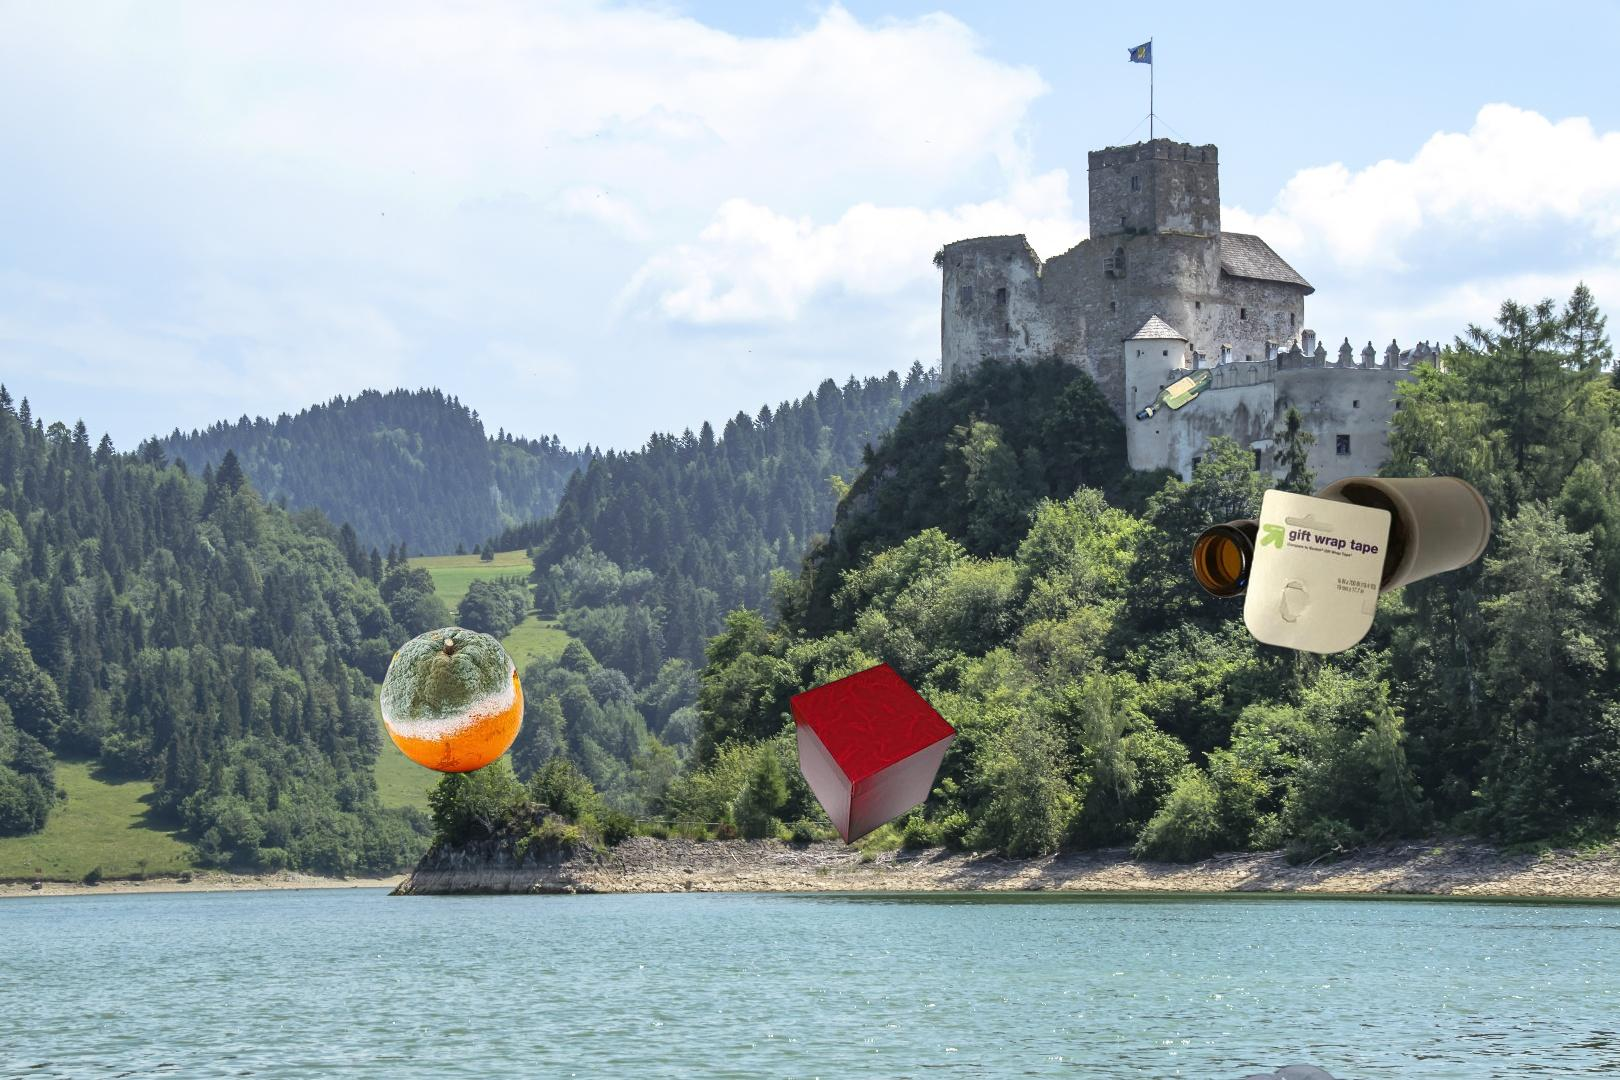biological: (376, 623, 528, 776)
glass: (1187, 474, 1496, 605), (1132, 362, 1217, 427)
paper: (1238, 485, 1396, 658)
plastic-bottles: (1184, 1061, 1445, 1080)
trashbox-cardboard: (786, 659, 961, 849)
